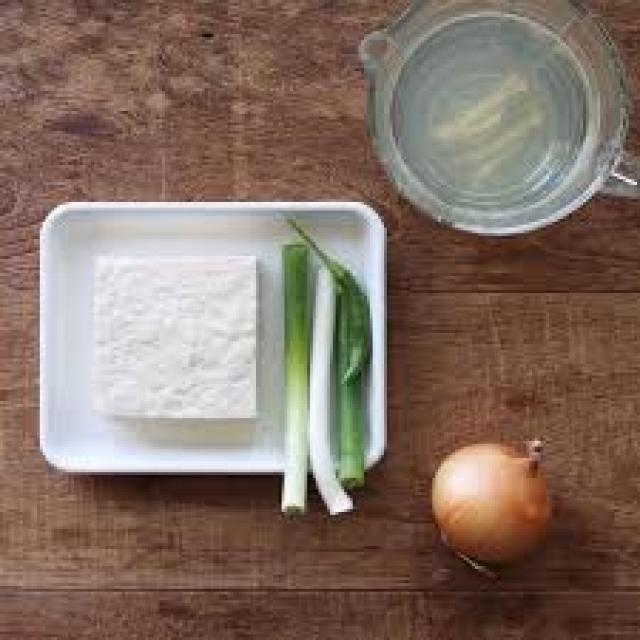tofu: (80, 243, 272, 431)
